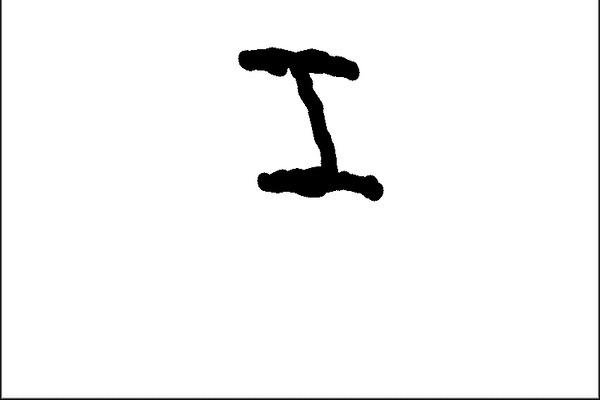i: (228, 40, 398, 207)
